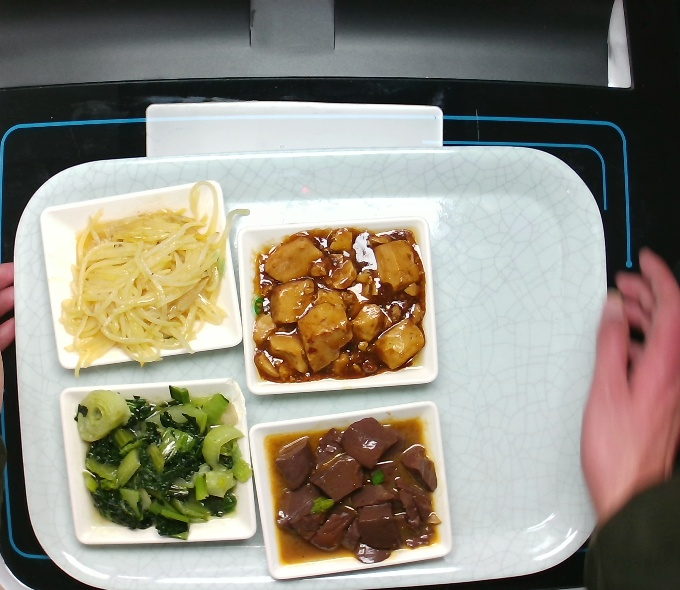wcq-MaPoDouFu: (247, 227, 427, 381)
wcq-NiuXue: (277, 418, 443, 575)
wcq-TuDouSi: (65, 207, 229, 357)
wcq-YouDongCai: (75, 391, 245, 538)
